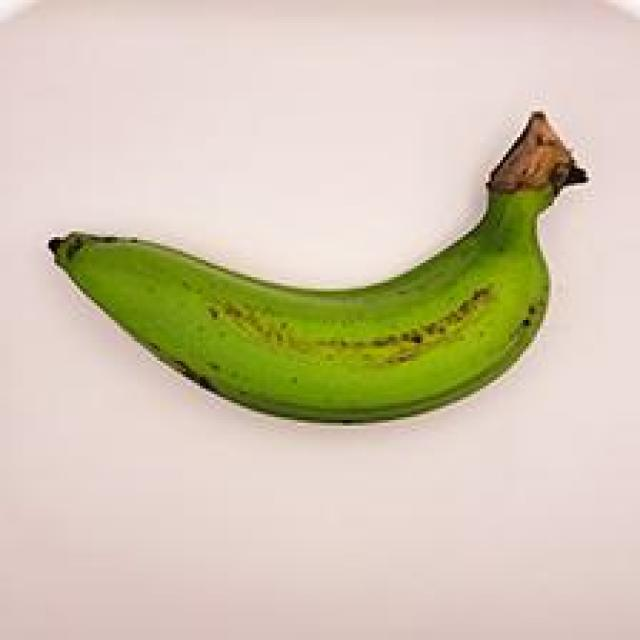Raw: (35, 89, 604, 455)
